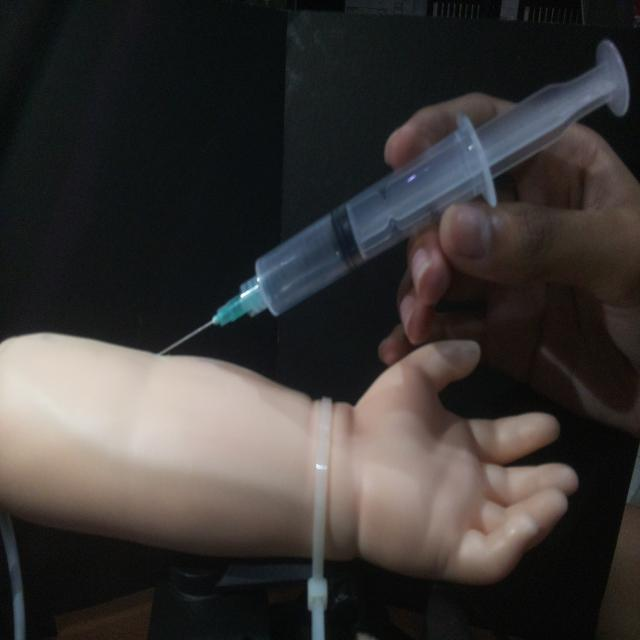25deg: (152, 35, 631, 359)
